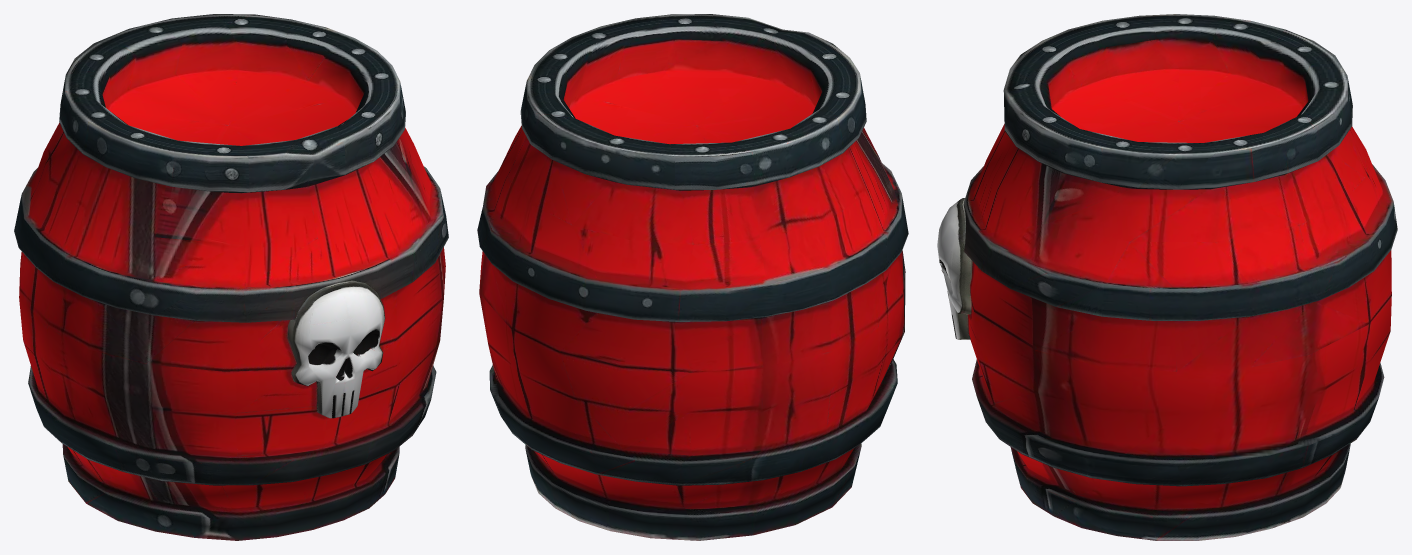
The model's file is explosiveBarrel.glb.
3 renders of one model, left to right at view 1: azimuth 30°, elevation 25°; view 2: azimuth 150°, elevation 25°; view 3: azimuth 270°, elevation 25°, orthographic.
Bounding box in the file's own units: 0.8906 × 0.8848 × 0.9531.
1 material, 1 textured.
